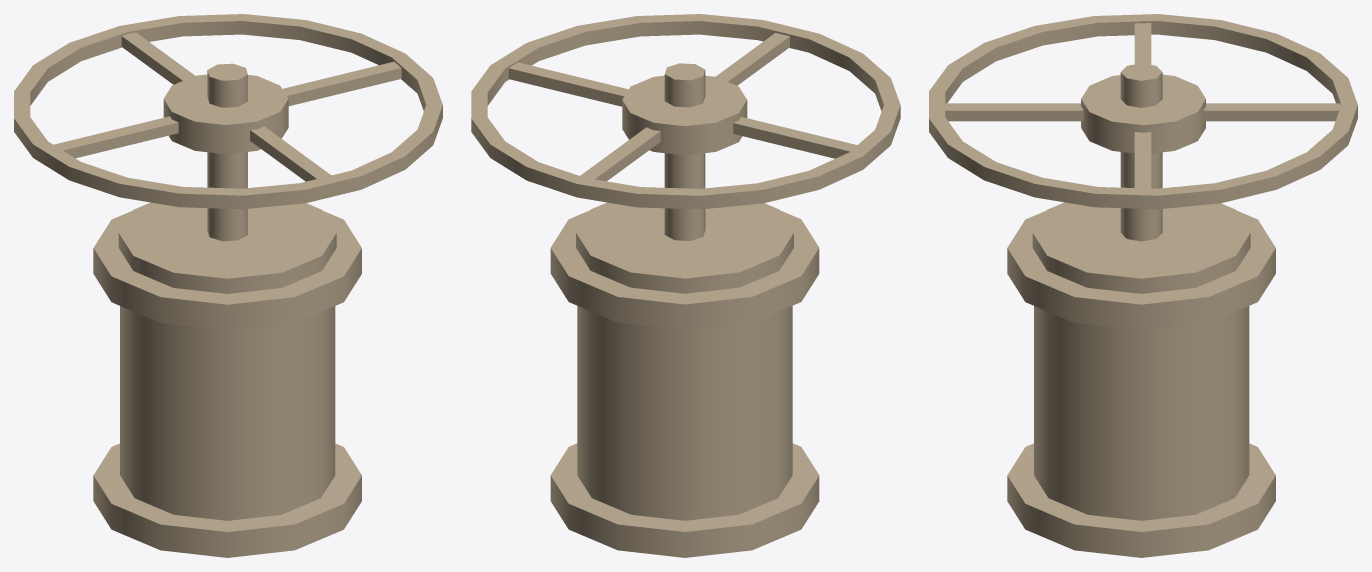
Rendered from pipe valve.FBX.
3 views of the same model, side by side, from view 1: azimuth 30°, elevation 25°; view 2: azimuth 150°, elevation 25°; view 3: azimuth 270°, elevation 25° (orthographic).
Visible parts, largest first — view 1: pipe valve; view 2: pipe valve; view 3: pipe valve.
Part boxes in pixels (x1,y1,x2,y2): pipe valve: (14,14,442,557); pipe valve: (471,14,900,557); pipe valve: (929,14,1357,557).
Size of the model in its own units: 0.5762 by 0.6344 by 0.5746.
